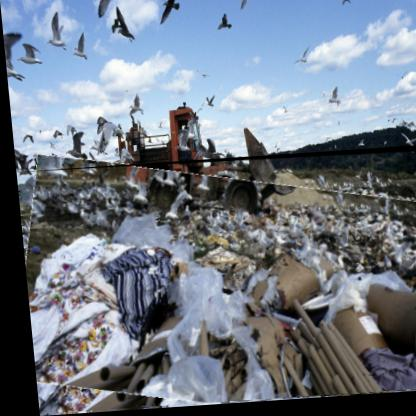Garbage: (14, 151, 416, 416)
